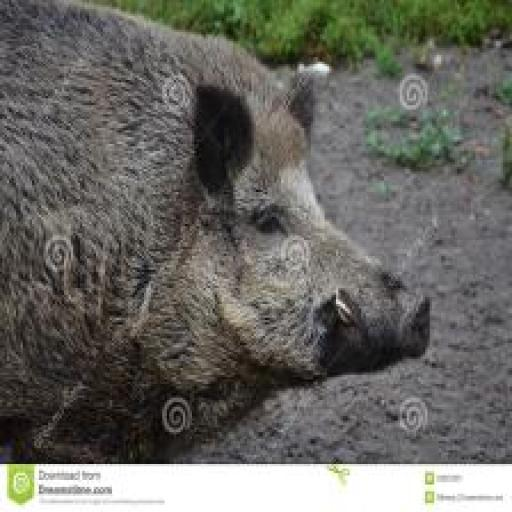Pig: (0, 2, 430, 465)
